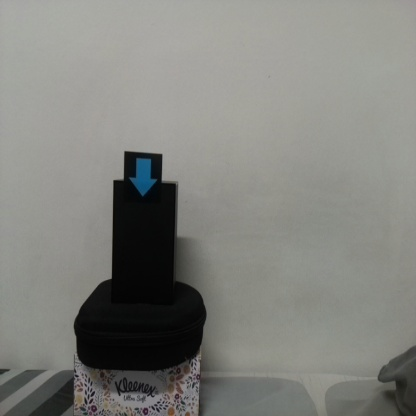id_2: (124, 152, 162, 205)
